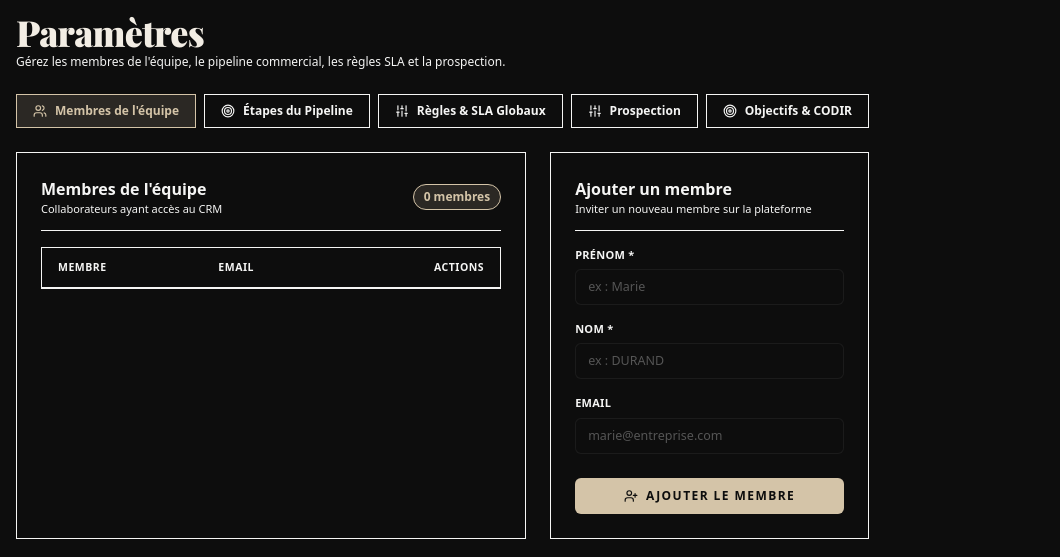
Test: Settings View › displays lost stage checkbox and badge in pipeline tab
Click the button "Étapes du Pipeline". click: (287, 111)
box: [204,94,370,128]
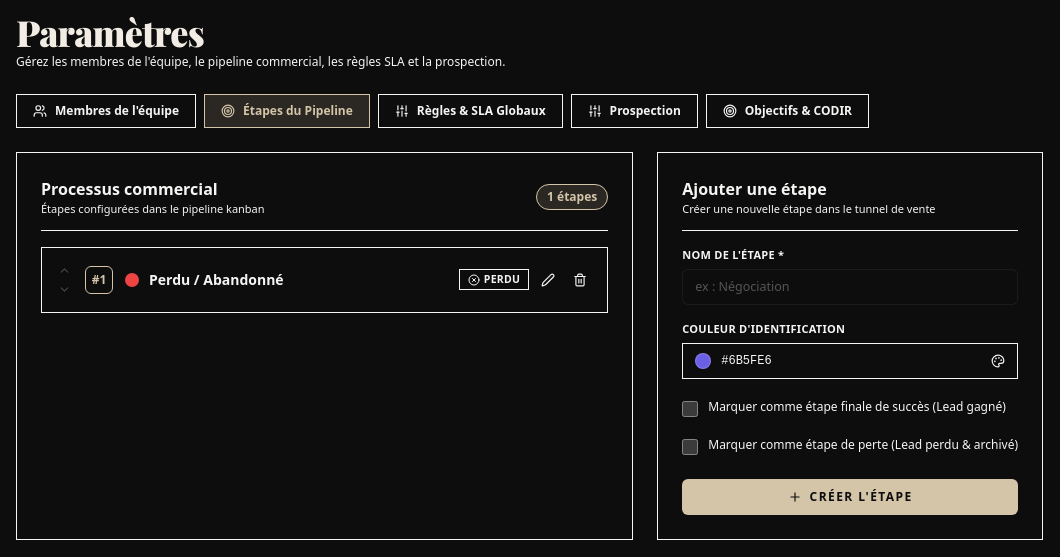
Now the text "Perdu / Abandonné" is shown, box [149,270,284,290]
Now the text "Perdu" is shown, box [459,269,529,290]
Now the text "Marquer comme étape de perte (Lead perdu & archivé)" is shown, box [708,437,1018,453]
